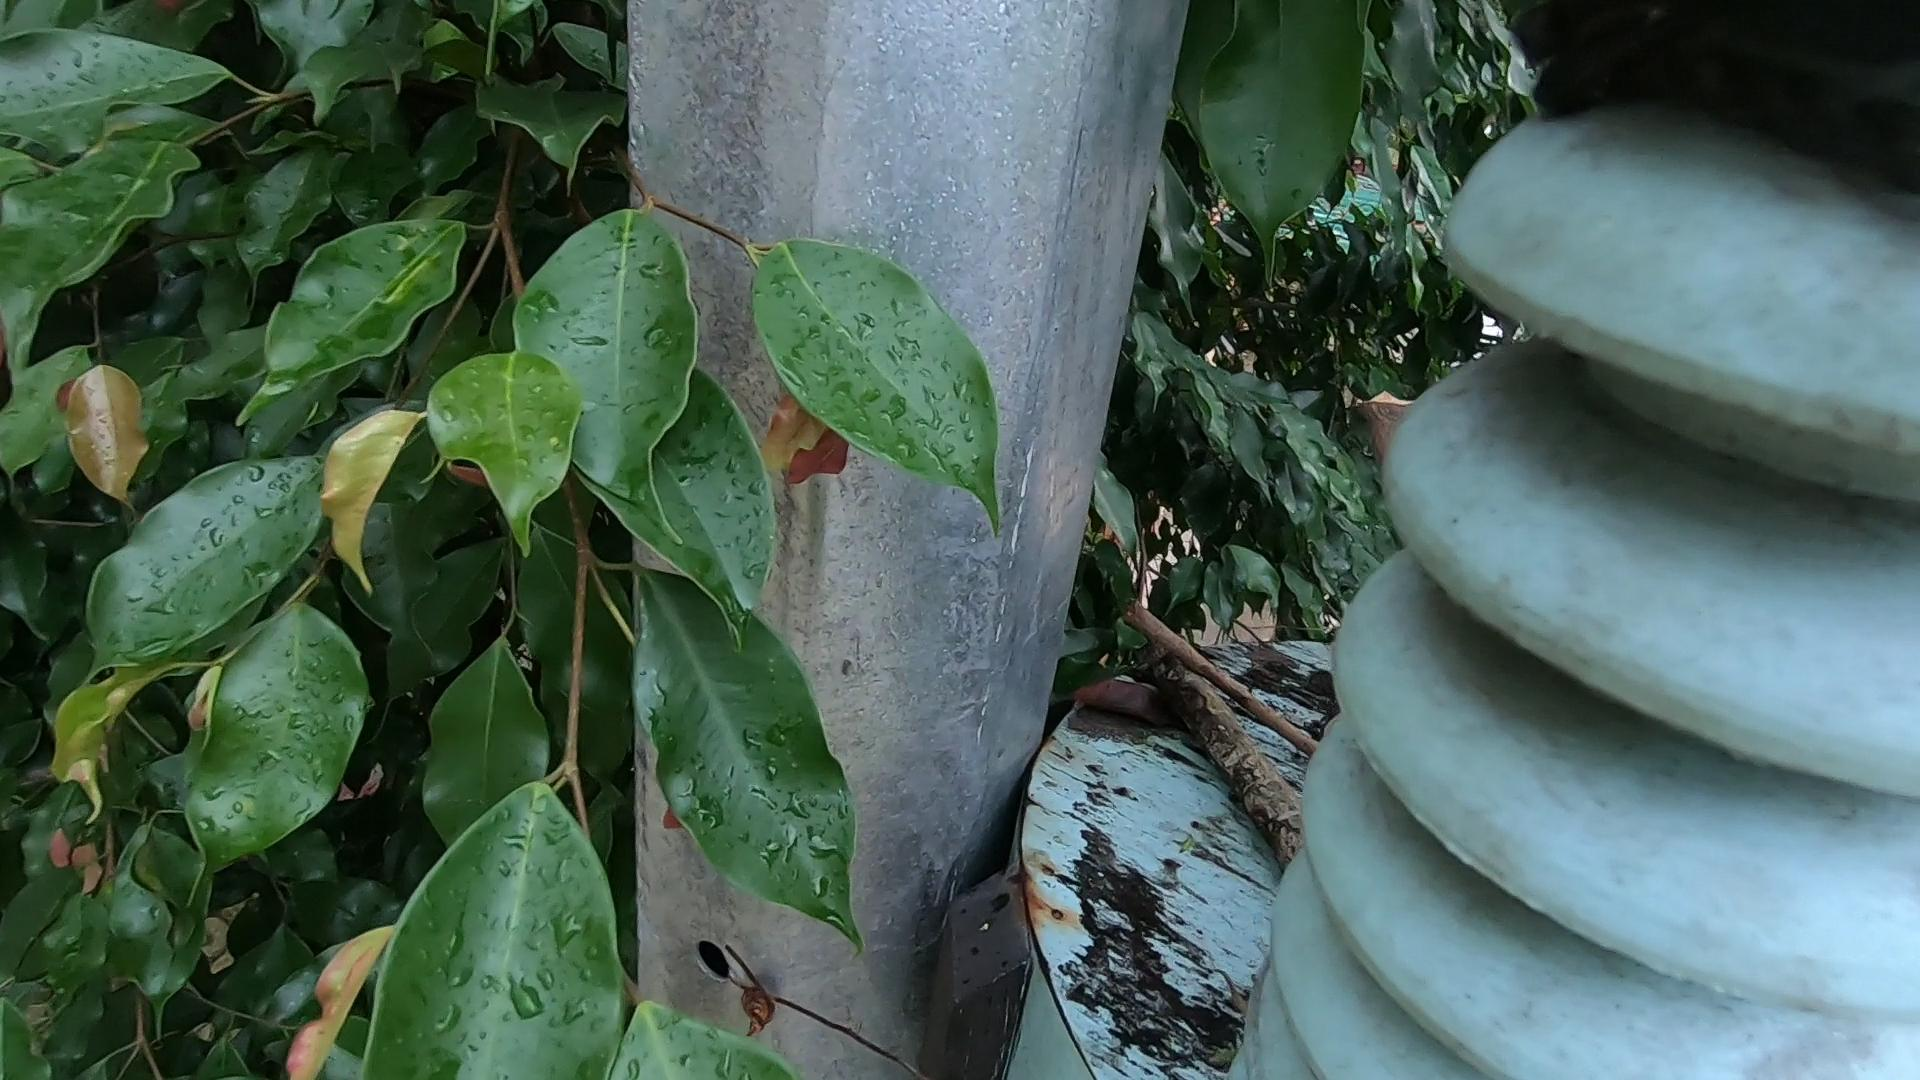branch with leaves: (1143, 613, 1333, 934)
leaf: (1072, 626, 1199, 782)
tree branch: (1122, 596, 1313, 764)
